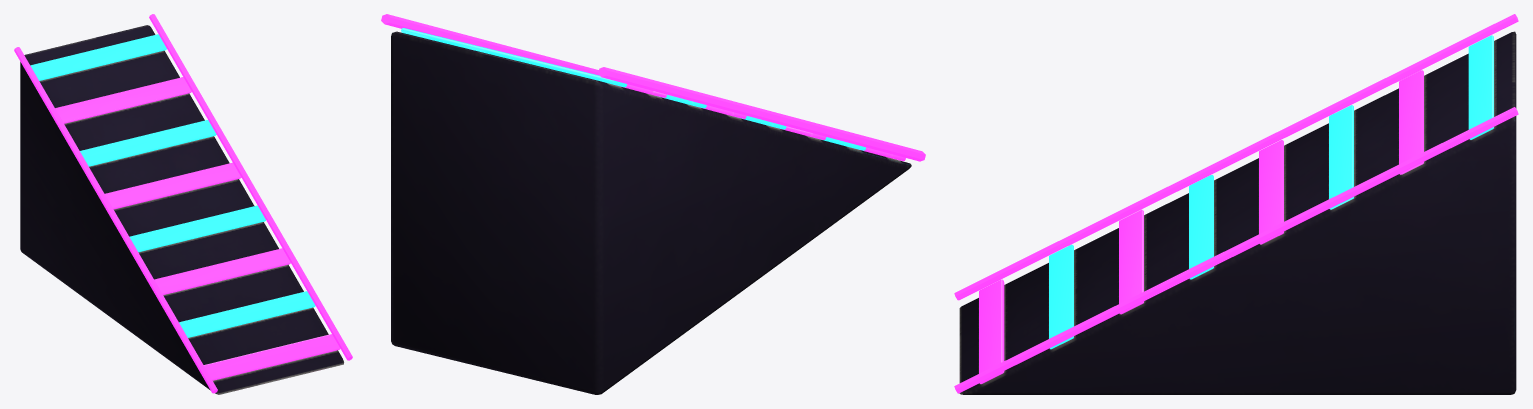
File: rn_ramp.glb
The picture shows the model from 3 angles, left to right: view 1: azimuth 30°, elevation 25°; view 2: azimuth 150°, elevation 25°; view 3: azimuth 270°, elevation 25°; orthographic projection. The views are drawn at different scales.
Parts seen in each view (by area): view 1: rn_ramp; view 2: rn_ramp; view 3: rn_ramp.
Part boxes in pixels (x1,y1,x2,y2): rn_ramp: (14, 14, 352, 394); rn_ramp: (381, 14, 925, 394); rn_ramp: (954, 14, 1518, 394).
Bounding box in the file's own units: 2.45 × 3.44 × 6.05.
Materials: 3 (3 with a texture image).
